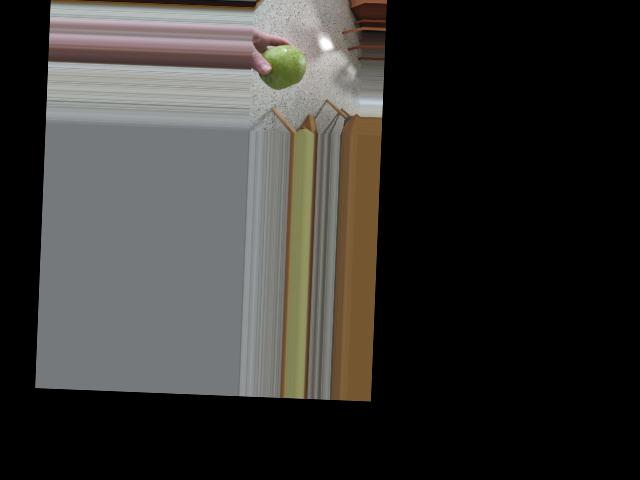apple: (256, 41, 308, 93)
